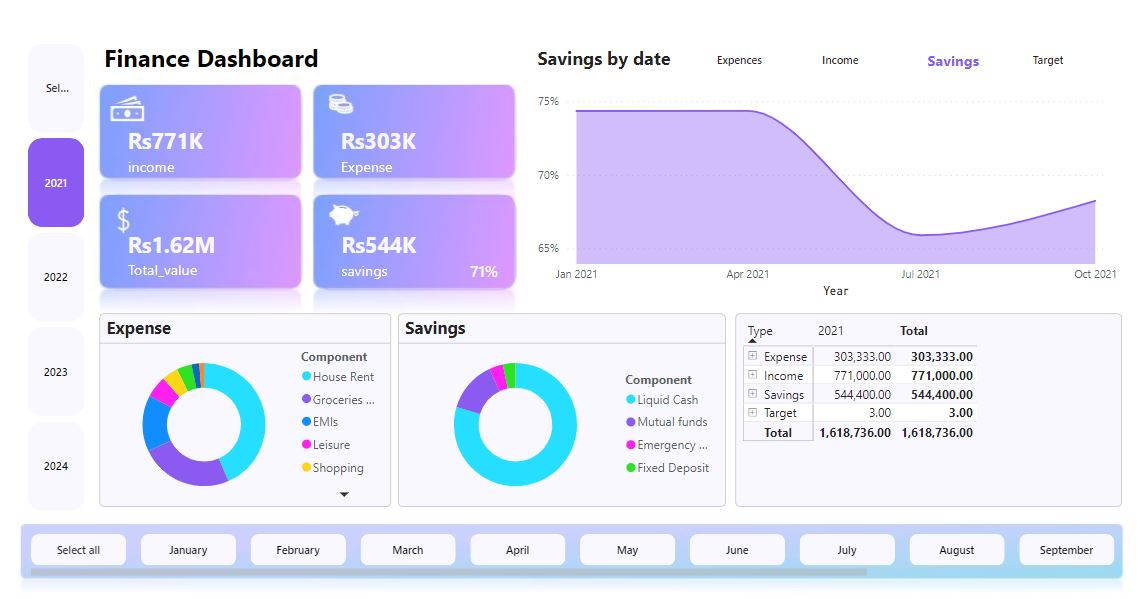

What the dashboard file says about the page in this screenshot:
{"tool":"powerbi","page":{"name":"Page 1","canvas":[1280,720],"ordinal":0},"visuals":[{"type":"image","box":[0,26.7,1280,693.3],"z":0},{"type":"cardVisual","fields":{"Data":["Data.income"]},"box":[128.3,171.7,148.3,83.3],"z":1000},{"type":"cardVisual","fields":{"Data":["Data.Total_value"]},"box":[128.7,286.1,179.6,81.1],"z":2000},{"type":"cardVisual","fields":{"Data":["Data.Expense"]},"box":[365,171.7,163.3,83.3],"z":3000},{"type":"cardVisual","fields":{"Data":["Data.Savings%"]},"box":[486.7,315,111.7,70],"z":4000},{"type":"advancedSlicerVisual","fields":{"Values":["Data.Year"]},"box":[30,93.3,73.3,533.3],"z":5000},{"type":"donutChart","title":"Savings","fields":{"Category":["Data.Component"],"Y":["Data.savings"]},"box":[446.6,398.9,364,214.6],"z":6000},{"type":"pivotTable","fields":{"Values":["Sum(Data.Value)"],"Rows":["Data.Type","Data.Component"],"Columns":["Data.Year"]},"box":[821.7,398.9,429.1,214.6],"z":7000},{"type":"advancedSlicerVisual","fields":{"Values":["Line_selection_table.TYPE"]},"box":[791.5,90.6,470.5,54],"z":8000},{"type":"areaChart","fields":{"Category":["Data.Date.Variation.Date Hierarchy.Year","Data.Date.Variation.Date Hierarchy.Quarter","Data.Date.Variation.Date Hierarchy.Day"],"Y":["Data.Line_chart_measure"]},"box":[596.7,93.3,653.3,291.7],"z":9000},{"type":"textbox","box":[115,90,466.7,53.3],"z":10000},{"type":"donutChart","title":"Expense","fields":{"Y":["Data.Expense"],"Category":["Data.Component"]},"box":[114.4,398.9,324.2,214.6],"z":11000},{"type":"cardVisual","fields":{"Data":["Data.savings"]},"box":[365.6,286.1,151,89],"z":12000},{"type":"advancedSlicerVisual","fields":{"Values":["Data.Date.Variation.Date Hierarchy.Month"]},"box":[33.3,638.3,1218.3,58.3],"z":13000}]}

Visuals, with their boxes on the page's 1280x720 design canvas (x1, y1, x2, y2). These are canvas units, not pixel positions in the 1142x599 screenshot, which may show the page scaled, cropped or inside an application window:
image: bbox=[0, 27, 1280, 720]
cardVisual - Data.income: bbox=[128, 172, 277, 255]
cardVisual - Data.Total_value: bbox=[129, 286, 308, 367]
cardVisual - Data.Expense: bbox=[365, 172, 528, 255]
cardVisual - Data.Savings%: bbox=[487, 315, 598, 385]
advancedSlicerVisual - Data.Year: bbox=[30, 93, 103, 627]
"Savings" donutChart: bbox=[447, 399, 811, 614]
pivotTable - Sum(Data.Value) x Data.Type: bbox=[822, 399, 1251, 614]
advancedSlicerVisual - Line_selection_table.TYPE: bbox=[792, 91, 1262, 145]
areaChart - Data.Date.Variation.Date Hierarchy.Year x Data.Date.Variation.Date Hierarchy.Quarter: bbox=[597, 93, 1250, 385]
textbox: bbox=[115, 90, 582, 143]
"Expense" donutChart: bbox=[114, 399, 439, 614]
cardVisual - Data.savings: bbox=[366, 286, 517, 375]
advancedSlicerVisual - Data.Date.Variation.Date Hierarchy.Month: bbox=[33, 638, 1252, 697]
